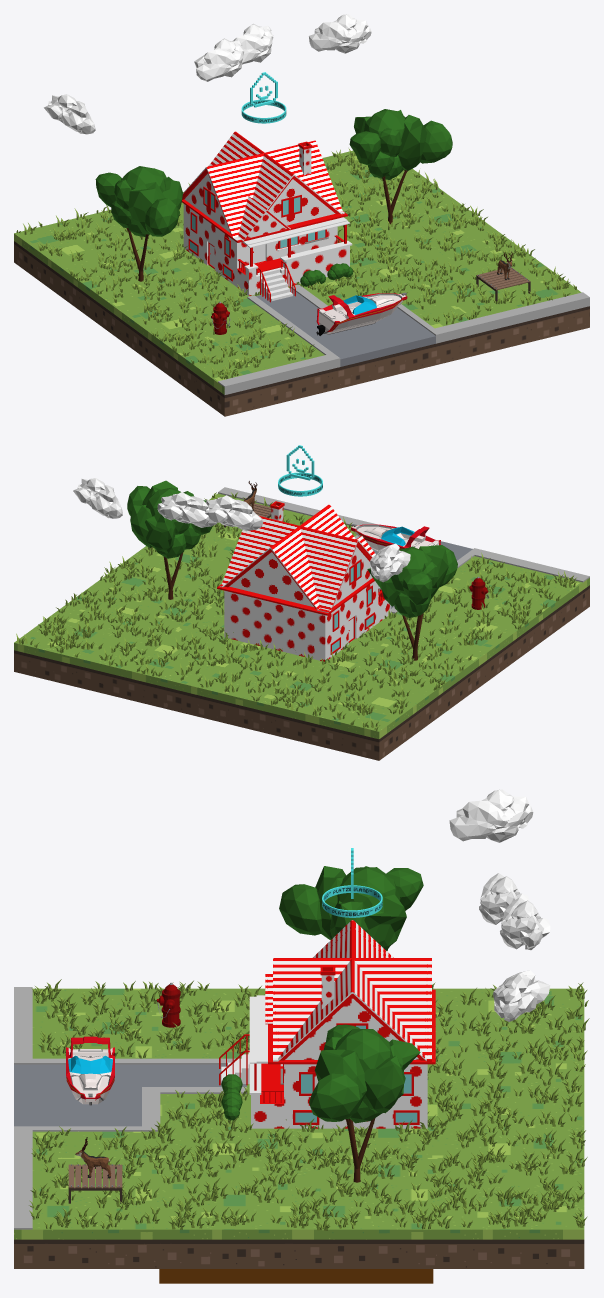
3 renders of one model, top to bottom at view 1: azimuth 30°, elevation 25°; view 2: azimuth 150°, elevation 25°; view 3: azimuth 270°, elevation 25°, orthographic. The views are drawn at different scales.
Parts seen in each view (by area): view 1: Cube.006, Cube.196, Circle.012_Grass_0.192, Cube.007, tree, tree.001, VEHICLES_BOAT, TYPE_PREMIUM, Cube.009; view 2: Cube.006, Cube.196, Circle.012_Grass_0.192, Cube.007, tree.001, tree, VEHICLES_BOAT, TYPE_PREMIUM, OBJRANDOM_FIRE_HYDRANT; view 3: Cube.006, Circle.012_Grass_0.192, Cube.196, tree, Cube.007, tree.001, UNDERGROUND_ART_PIECE_VAN_GOGH, VEHICLES_BOAT, Cube.009, TYPE_PREMIUM, OBJRANDOM_FIRE_HYDRANT.
Boxes of the visible parts, bbox=[...] form: Cube.006: bbox=[14, 150, 589, 416]; Cube.196: bbox=[181, 131, 352, 302]; Circle.012_Grass_0.192: bbox=[16, 148, 576, 379]; Cube.007: bbox=[44, 14, 371, 134]; tree: bbox=[349, 109, 452, 224]; tree.001: bbox=[95, 166, 182, 281]; VEHICLES_BOAT: bbox=[316, 292, 407, 335]; TYPE_PREMIUM: bbox=[241, 72, 286, 123]; Cube.009: bbox=[476, 267, 530, 301]; Cube.006: bbox=[14, 487, 589, 760]; Cube.196: bbox=[217, 501, 390, 661]; Circle.012_Grass_0.192: bbox=[16, 492, 576, 730]; Cube.007: bbox=[73, 478, 410, 582]; tree.001: bbox=[367, 545, 457, 660]; tree: bbox=[127, 480, 212, 599]; VEHICLES_BOAT: bbox=[351, 524, 440, 551]; TYPE_PREMIUM: bbox=[278, 445, 322, 496]; OBJRANDOM_FIRE_HYDRANT: bbox=[469, 576, 488, 609]; Cube.006: bbox=[14, 987, 584, 1268]; Circle.012_Grass_0.192: bbox=[29, 979, 589, 1230]; Cube.196: bbox=[219, 920, 435, 1128]; tree: bbox=[309, 1024, 420, 1182]; Cube.007: bbox=[449, 789, 550, 1021]; tree.001: bbox=[279, 866, 423, 950]; UNDERGROUND_ART_PIECE_VAN_GOGH: bbox=[159, 1269, 433, 1283]; VEHICLES_BOAT: bbox=[66, 1036, 114, 1105]; Cube.009: bbox=[68, 1164, 122, 1203]; TYPE_PREMIUM: bbox=[322, 848, 382, 917]; OBJRANDOM_FIRE_HYDRANT: bbox=[157, 982, 180, 1027].
Size of the model in its own units: 4071 by 2426 by 4040.
32 materials, 6 textured.
